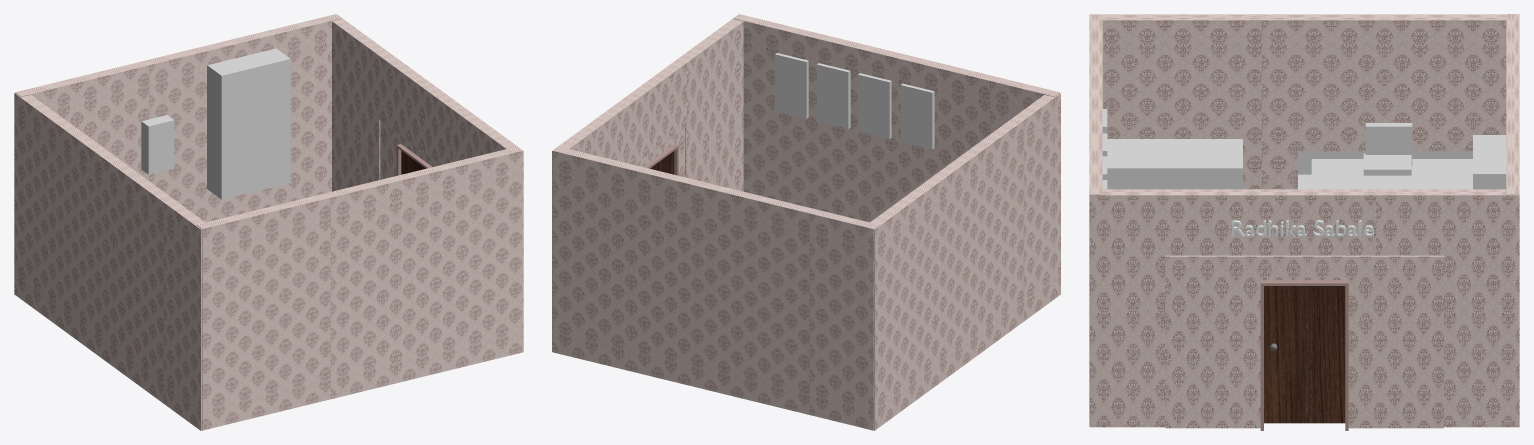
Rendered from room.glb.
The picture shows the model from 3 angles, left to right: view 1: azimuth 30°, elevation 25°; view 2: azimuth 150°, elevation 25°; view 3: azimuth 270°, elevation 25°; orthographic projection. The views are drawn at different scales.
Visible parts, largest first — view 1: left_wall, back_wall, right_wall, front_wall, bookshelf, telephone, Cube; view 2: right_wall, back_wall, left_wall, front_wall, p4, p2, p3, p1, Cube; view 3: front_wall, back_wall, Cube, door, harmonium_stand, table, left_wall, right_wall, bookshelf, door_frame, laptop1, name (+1 smaller).
Boxes of the visible parts, x1,y1,x2,y2 form: left_wall: [196, 146, 523, 430]; back_wall: [14, 93, 205, 430]; right_wall: [15, 14, 341, 222]; front_wall: [332, 14, 523, 351]; bookshelf: [207, 48, 290, 199]; telephone: [141, 115, 174, 174]; Cube: [380, 121, 440, 179]; right_wall: [552, 146, 879, 430]; back_wall: [867, 93, 1060, 430]; left_wall: [733, 14, 1059, 222]; front_wall: [552, 18, 743, 351]; p4: [900, 83, 934, 149]; p2: [816, 63, 850, 128]; p3: [858, 73, 891, 138]; p1: [775, 53, 808, 118]; Cube: [635, 128, 684, 177]; front_wall: [1089, 189, 1519, 427]; back_wall: [1102, 14, 1506, 189]; Cube: [1165, 255, 1443, 428]; door: [1264, 286, 1345, 423]; harmonium_stand: [1107, 139, 1242, 189]; table: [1298, 151, 1472, 189]; left_wall: [1089, 14, 1102, 426]; right_wall: [1506, 14, 1519, 194]; bookshelf: [1473, 135, 1506, 189]; door_frame: [1260, 280, 1348, 430]; laptop1: [1365, 123, 1412, 166]; name: [1231, 220, 1373, 236].
Size of the model in its own units: 30.75 by 18.02 by 30.24.
Materials: 12 (6 with a texture image).
